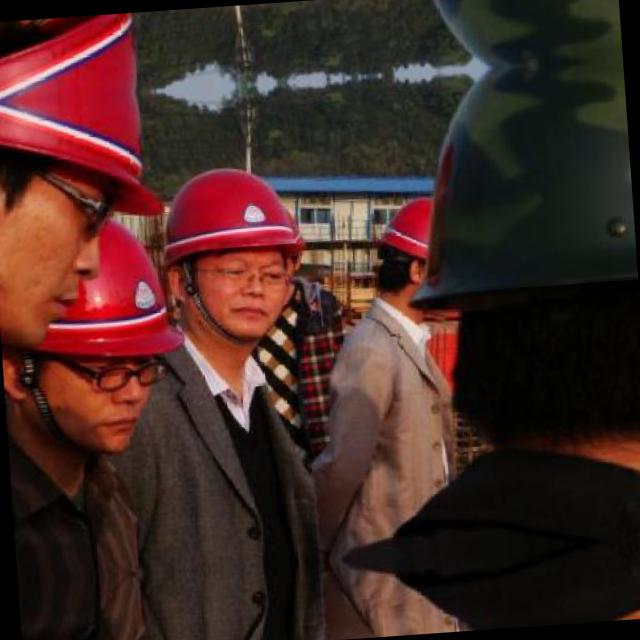helmet: (391, 60, 640, 487), (0, 97, 168, 386), (0, 203, 177, 470), (152, 158, 315, 352), (360, 187, 482, 316), (0, 11, 149, 97)
